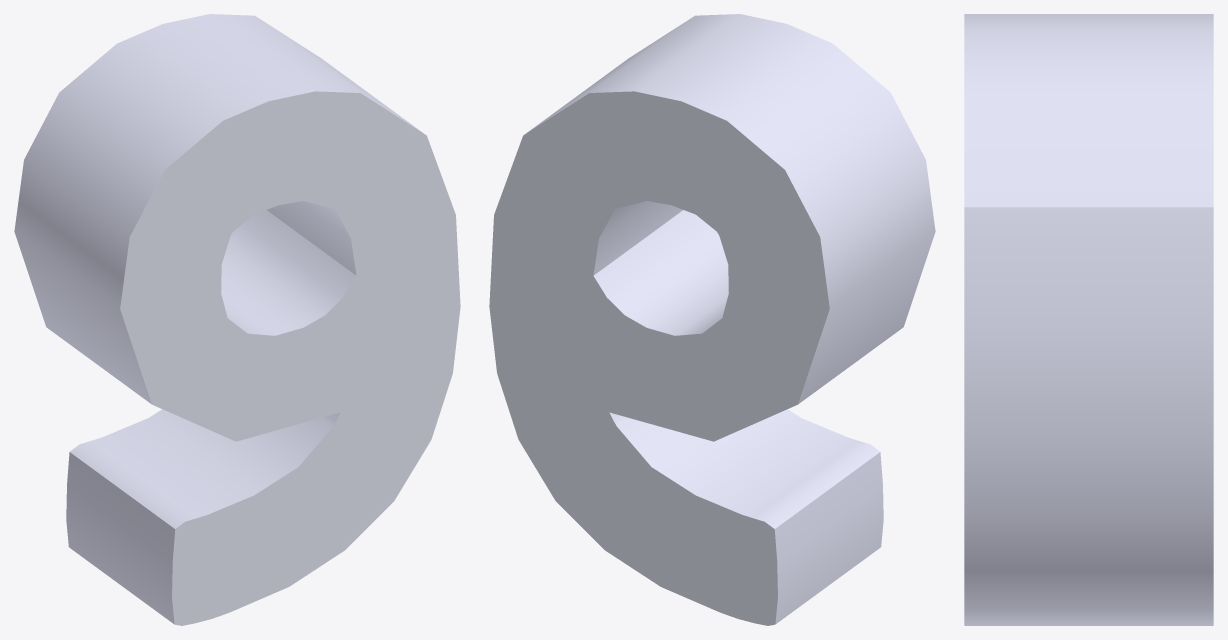
The model's file is bc8eacf0-cd84-483c-9ed7-50f0a66e9d15.glb.
3 renders of one model, left to right at view 1: azimuth 30°, elevation 25°; view 2: azimuth 150°, elevation 25°; view 3: azimuth 270°, elevation 25°, orthographic. The views are drawn at different scales.
Parts seen in each view (by area): view 1: 9_Zyzol_Grey; view 2: 9_Zyzol_Grey; view 3: 9_Zyzol_Grey.
Boxes of the visible parts, left/top/right/bottom form: 9_Zyzol_Grey: left=14, top=14, right=460, bottom=625; 9_Zyzol_Grey: left=489, top=14, right=935, bottom=625; 9_Zyzol_Grey: left=964, top=14, right=1213, bottom=625.
Size of what is drawn, in the model's own units: 0.0837 by 0.1184 by 0.045.
Materials: 2 (2 with a texture image).
